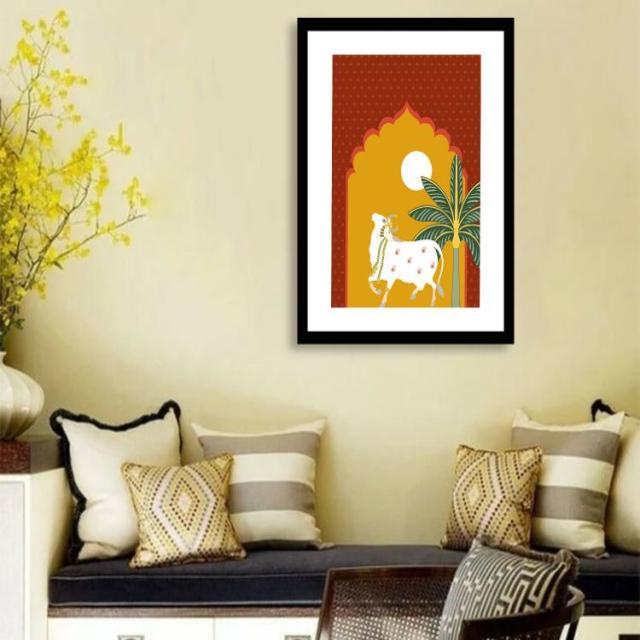painting: (297, 17, 514, 343)
